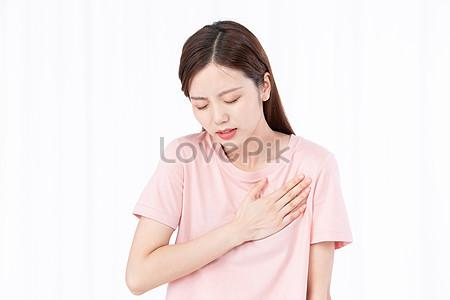pain: (181, 85, 247, 113)
